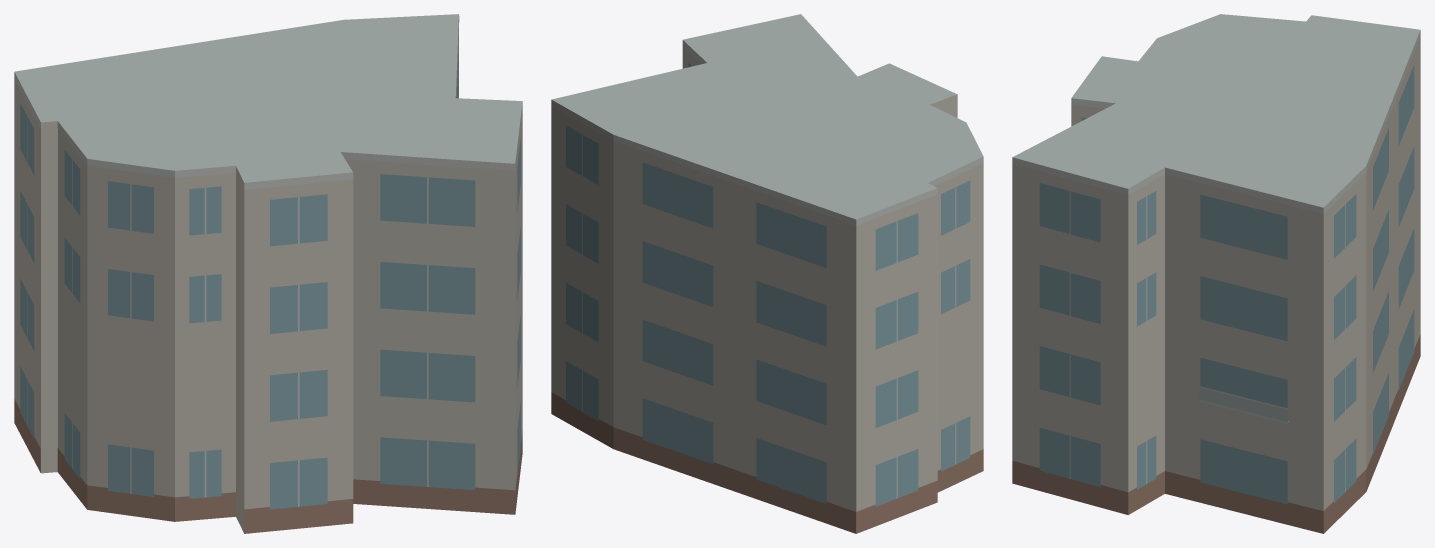
The model's file is survey-upis-32780255.glb.
3 renders of one model, left to right at view 1: azimuth 30°, elevation 25°; view 2: azimuth 150°, elevation 25°; view 3: azimuth 270°, elevation 25°, orthographic. The views are drawn at different scales.
Visible parts, largest first — view 1: survey-upis-32780255.tmp; view 2: survey-upis-32780255.tmp; view 3: survey-upis-32780255.tmp.
Boxes of the visible parts, <box> form: survey-upis-32780255.tmp: <box>14,14,522,533</box>; survey-upis-32780255.tmp: <box>551,14,983,533</box>; survey-upis-32780255.tmp: <box>1012,14,1420,533</box>.
Size of the model in its own units: 15.55 by 12.2 by 13.85.
